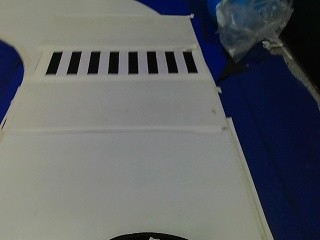crosswalk: (40, 48, 198, 79)
